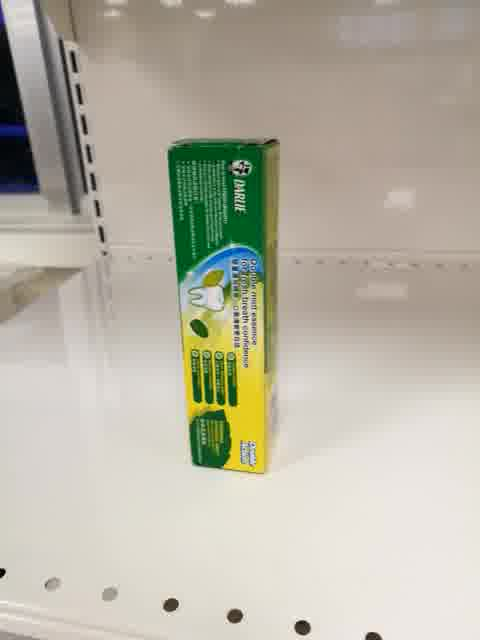toothpaste: (166, 136, 279, 475)
